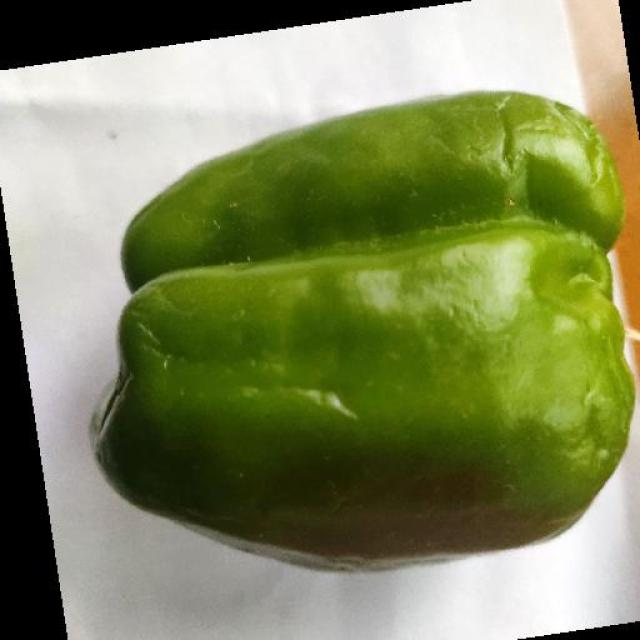Fresh_Capsicum: (159, 124, 629, 521)
